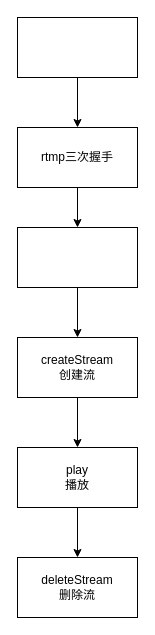
Image size: 155x635. Some labels were removed from this diagram. Here are the shapes that lost their labels. From the top down, the centre of each, then its label:
At pixel 77 47: "tcp三次握手".
At pixel 77 257: "connect连接".
